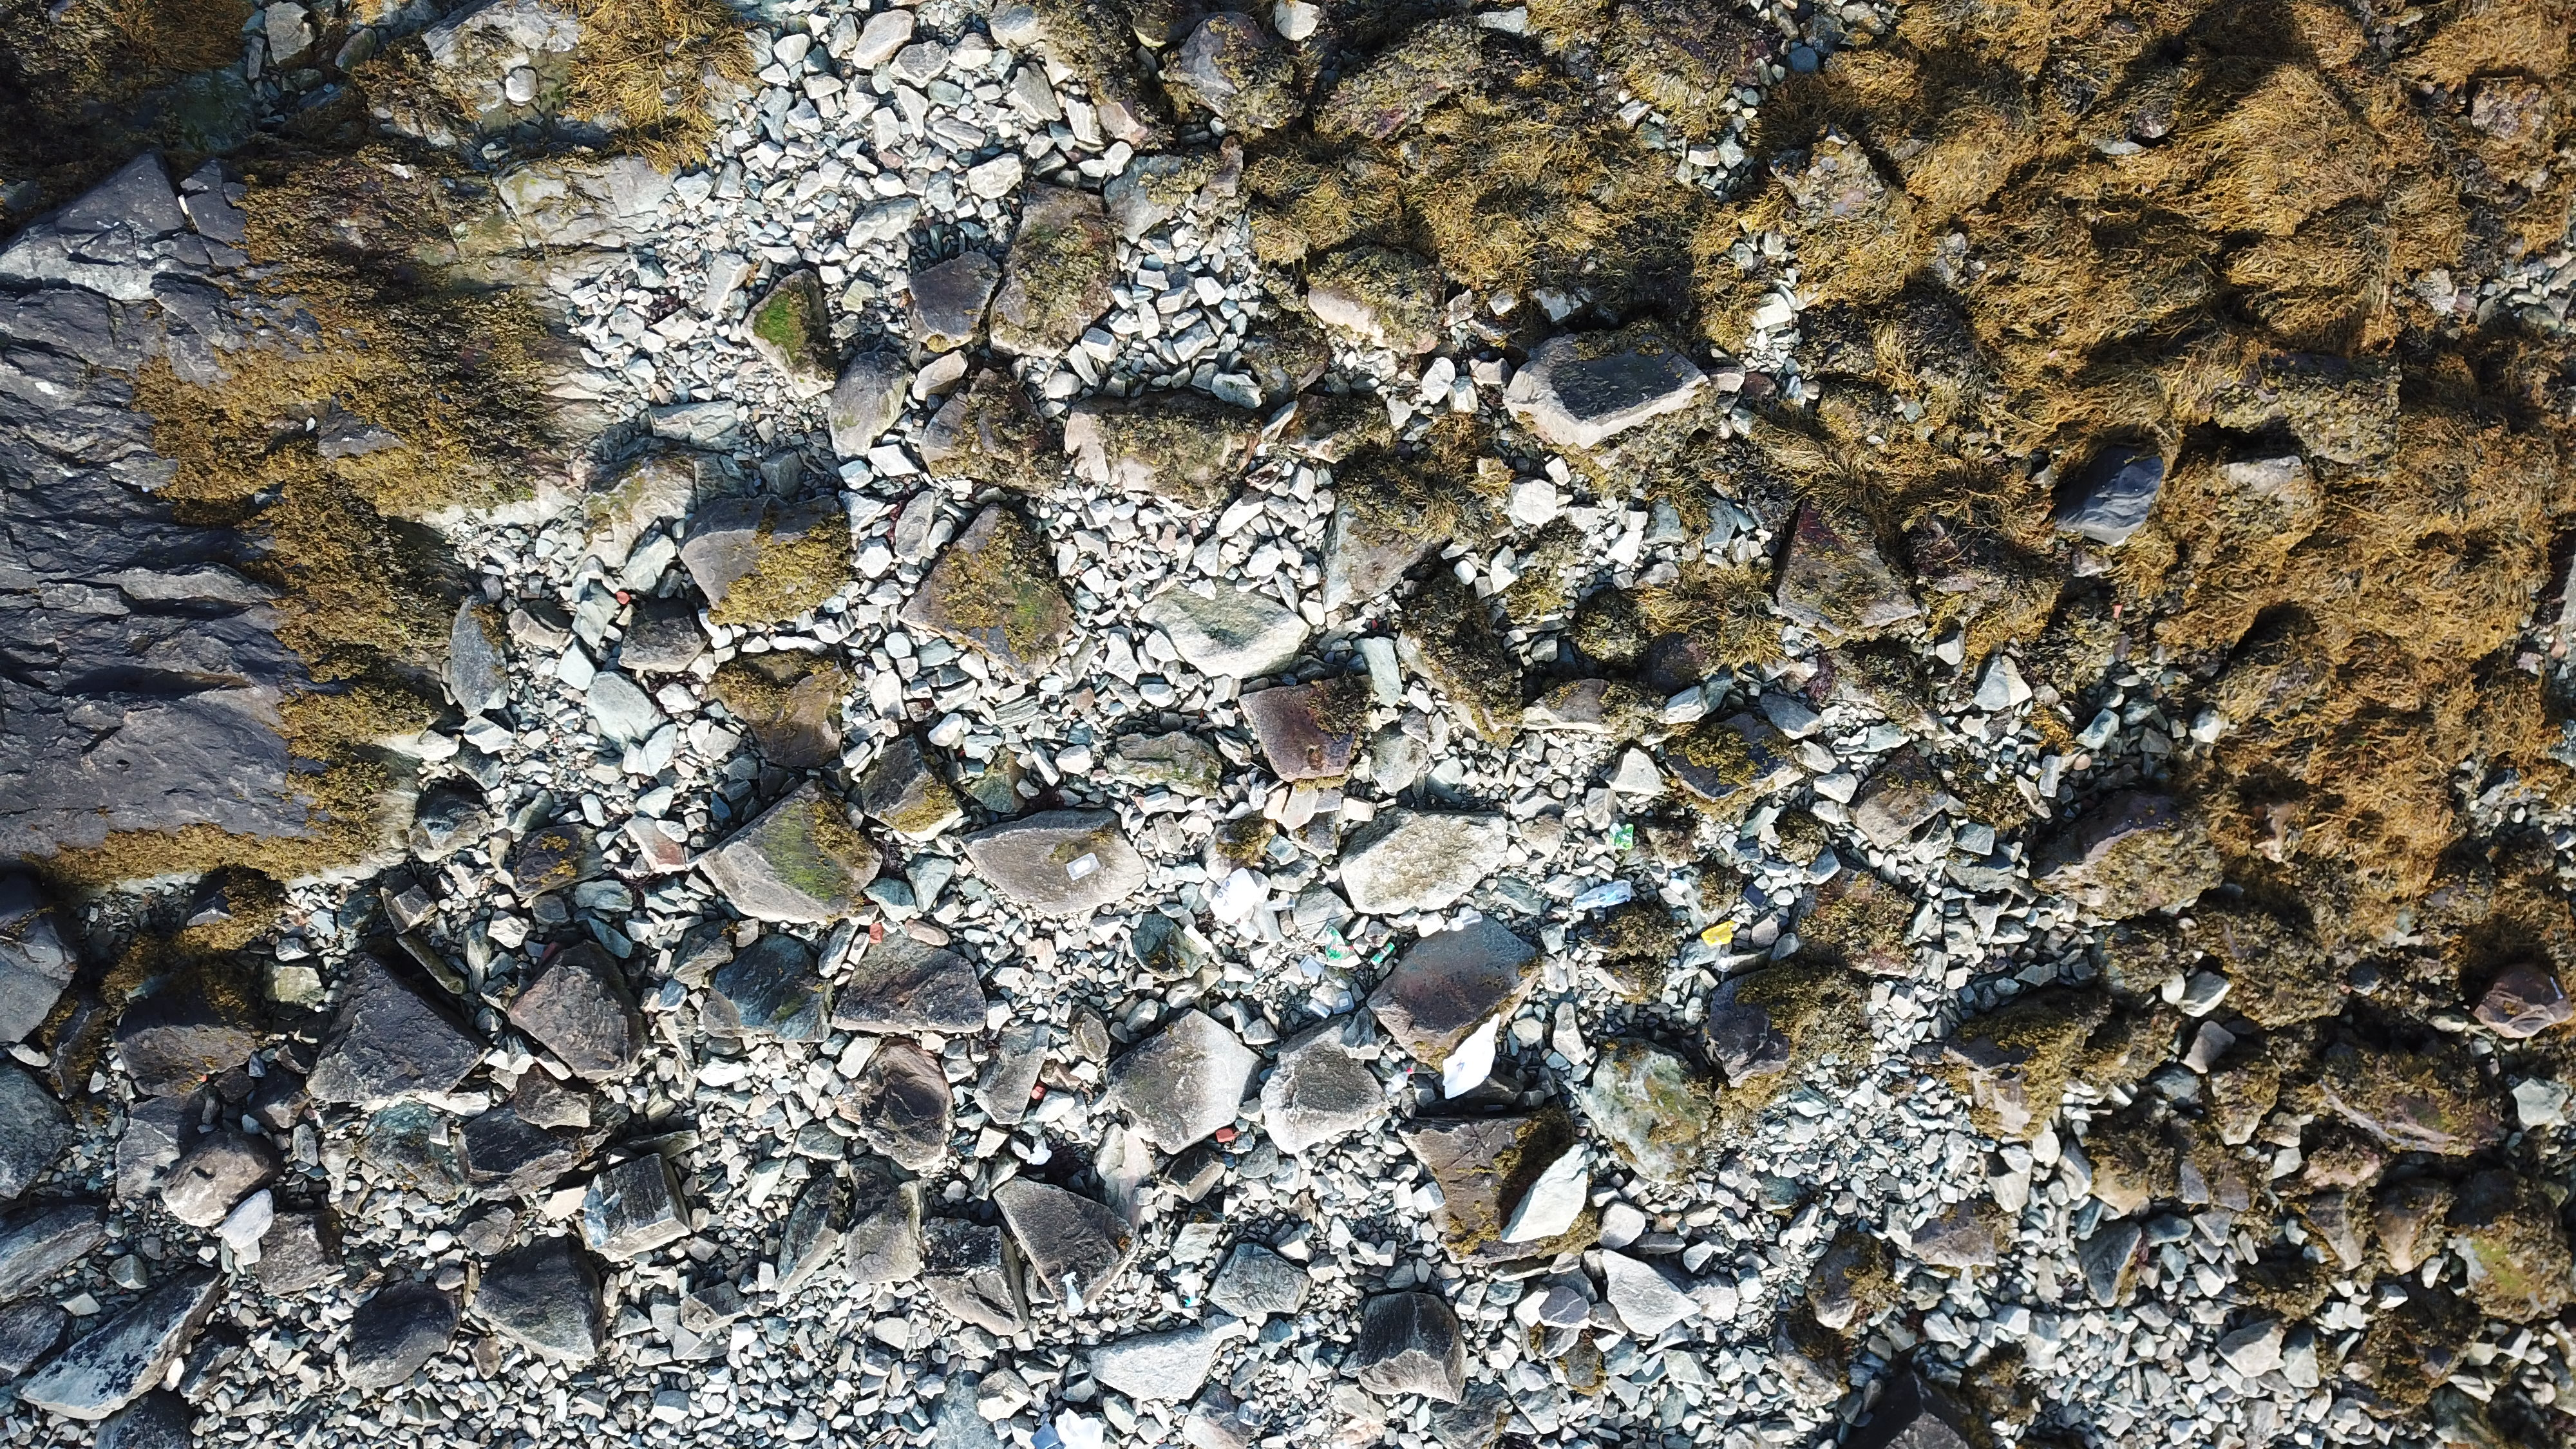Can: (1369, 943, 1396, 968)
Plastic: (1444, 1012, 1504, 1100), (1208, 867, 1265, 925), (1056, 1407, 1106, 1449), (1571, 879, 1631, 911), (1323, 925, 1355, 961), (1062, 1272, 1085, 1318), (1177, 1270, 1203, 1309), (1184, 924, 1215, 955), (1067, 853, 1100, 881), (1030, 1421, 1062, 1449), (1700, 922, 1736, 947), (1024, 1138, 1053, 1164), (1610, 823, 1633, 853), (1265, 893, 1297, 915), (1300, 954, 1323, 978), (1332, 991, 1355, 1014), (1307, 998, 1332, 1019), (1714, 950, 1736, 971)
PlasticBottle: (1442, 909, 1483, 932), (1384, 1069, 1414, 1099)
